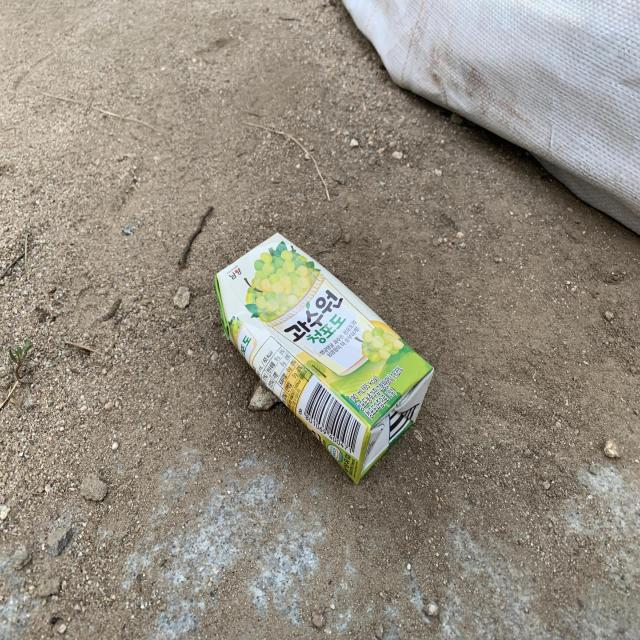paperpack: (215, 232, 434, 483)
